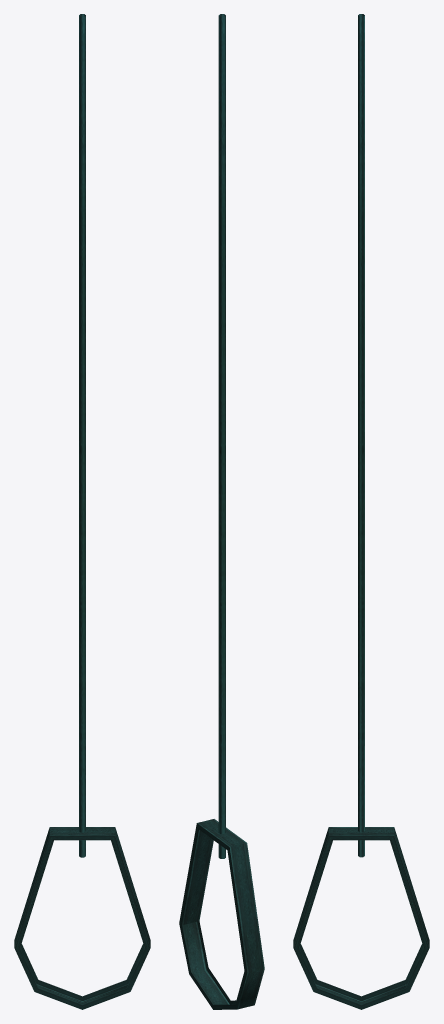
File: p_glo_pipes_aqua_d4_holder_lod1.glb
3 renders of one model, left to right at view 1: azimuth 90°, elevation 25°; view 2: azimuth 210°, elevation 25°; view 3: azimuth 270°, elevation 25°, orthographic.
Parts seen in each view (by area): view 1: surf0; view 2: surf0; view 3: surf0.
Boxes of the visible parts, box(x1,y1,x2,y2) form: surf0: box(14, 14, 150, 1009); surf0: box(179, 14, 264, 1009); surf0: box(293, 14, 429, 1009).
Size of the model in its own units: 1.29 by 70.18 by 8.74.
